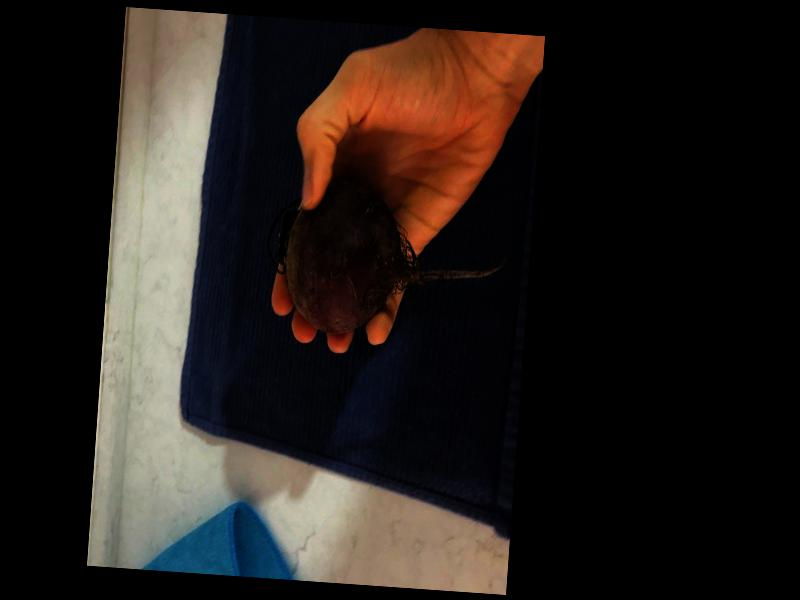Beet: (261, 175, 511, 345)
